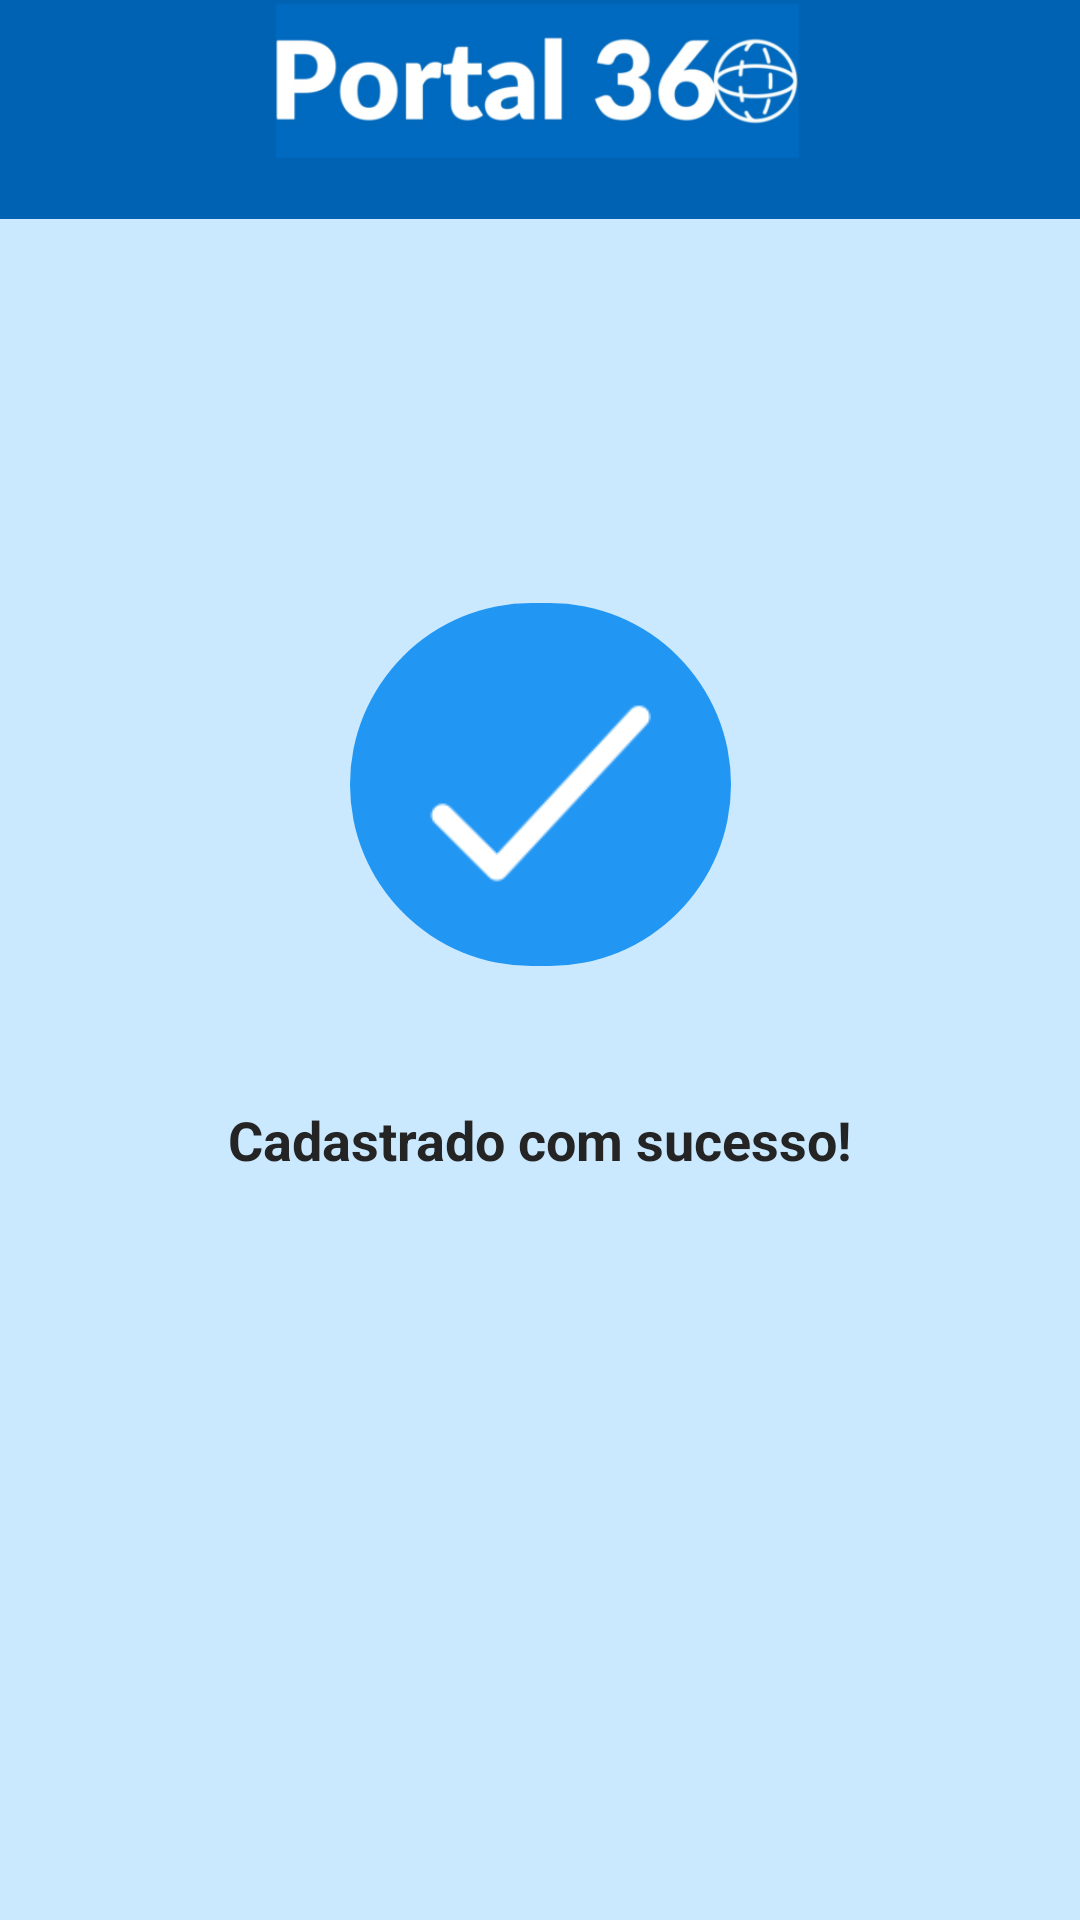

Named icons in this screenshot (1080px×1920px) and their centers, [x,y]:
sucesso risco: [540,793]
